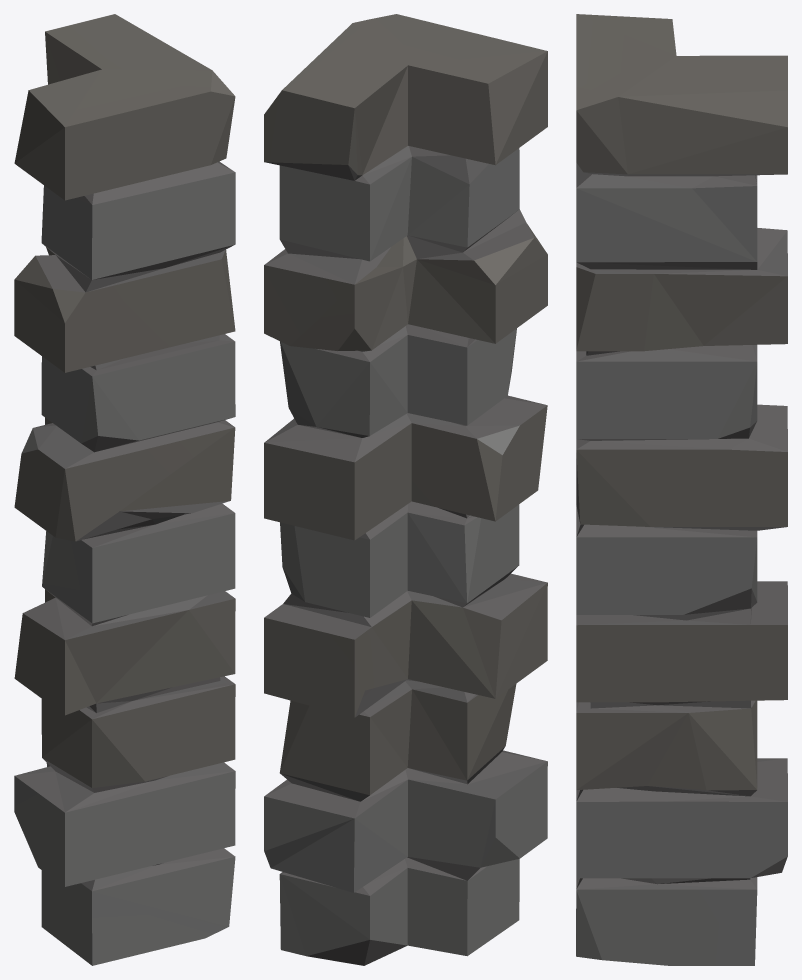
The model's file is SM_Env_Wall_End_Coner_Inner_01.glb.
The picture shows the model from 3 angles, left to right: view 1: azimuth 30°, elevation 25°; view 2: azimuth 150°, elevation 25°; view 3: azimuth 270°, elevation 25°; orthographic projection. The views are drawn at different scales.
Parts seen in each view (by area): view 1: SM_Env_Wall_End_Coner_Inner_01; view 2: SM_Env_Wall_End_Coner_Inner_01; view 3: SM_Env_Wall_End_Coner_Inner_01.
Part boxes in pixels (bbox=[...]): SM_Env_Wall_End_Coner_Inner_01: bbox=[14, 14, 235, 965]; SM_Env_Wall_End_Coner_Inner_01: bbox=[264, 14, 547, 965]; SM_Env_Wall_End_Coner_Inner_01: bbox=[576, 14, 787, 965].
Bounding box in the file's own units: 0.0106 × 0.0503 × 0.0111.
1 material, 1 textured.
